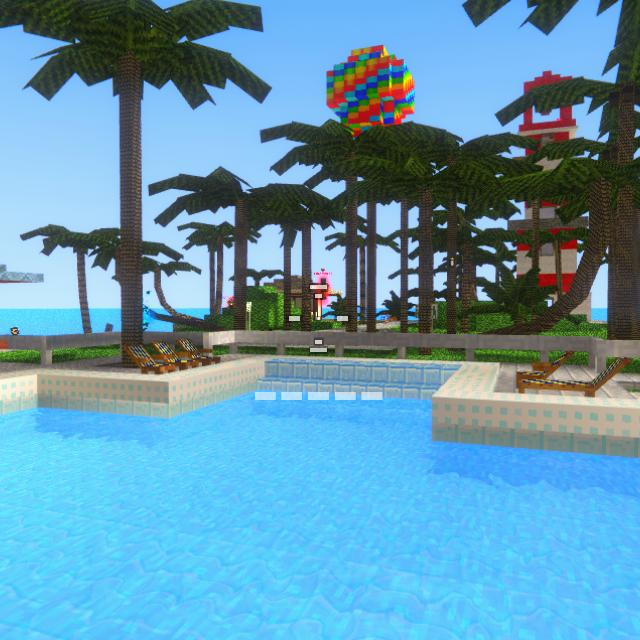Enemy: (316, 278, 329, 302), (225, 300, 232, 310)
